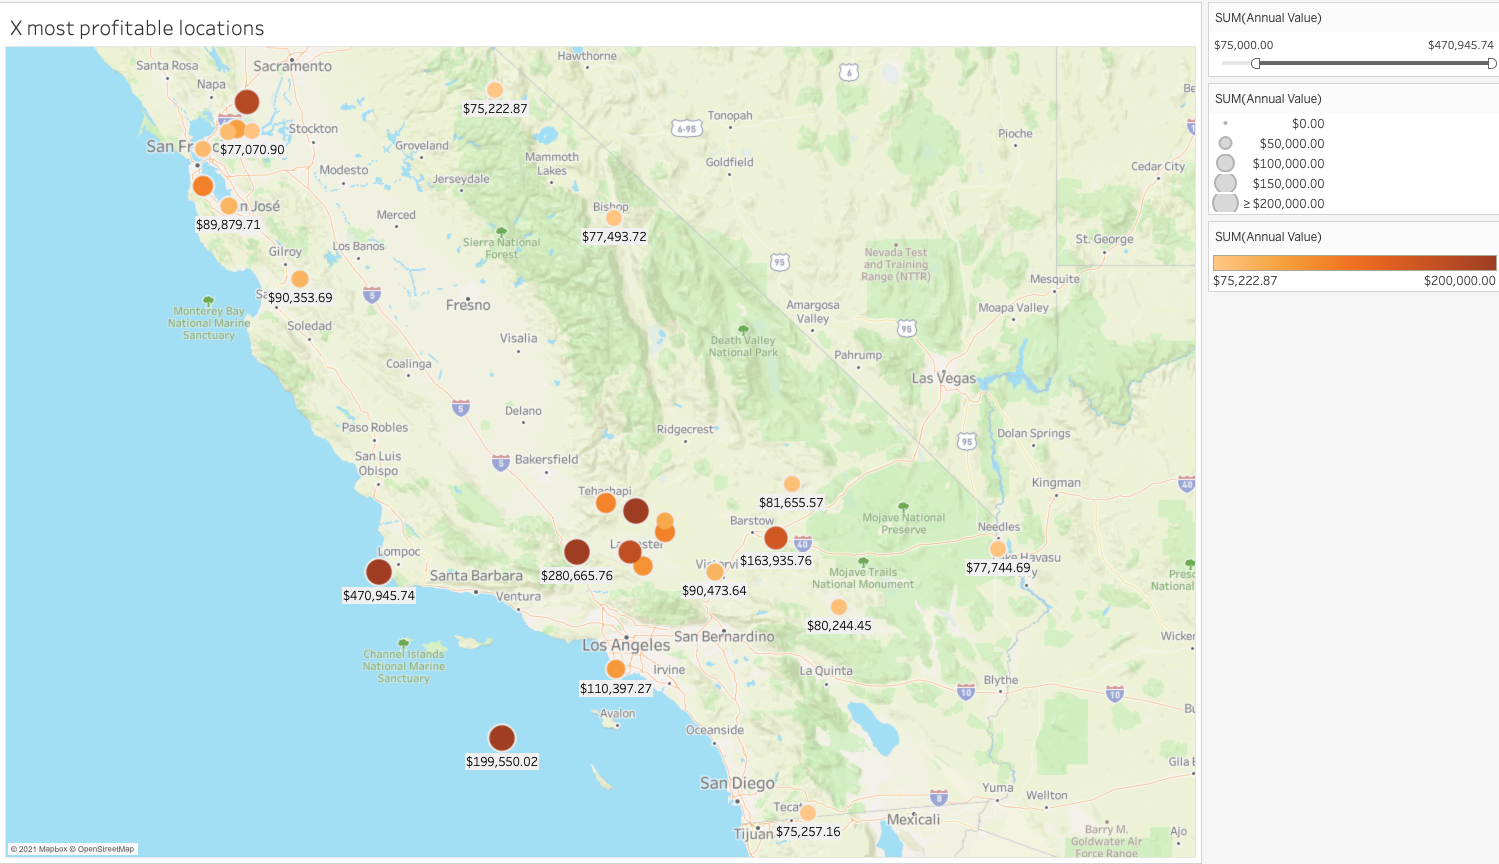

This screenshot's page, from the dashboard's own definition file:
{"tool":"tableau","page":{"name":"X most Profitable","canvas":[650,860],"ordinal":2},"visuals":[{"type":"filter","title":"X most profitable locations","param":"[federated.0d5cord0ae5pdx11siwb11orag4q].[sum:annual_value:qk]","box":[8,9.6,634,53.8]},{"type":"legend","title":"X most profitable locations","param":"[federated.0d5cord0ae5pdx11siwb11orag4q].[sum:annual_value:qk]","box":[8,63.4,634,54.1]},{"type":"worksheet","title":"X most profitable locations","mark":"Automatic","rows":["latitude"],"cols":["longitude"],"box":[8,117.5,634,733]}]}

Visuals, with their boxes on the page's 650x860 design canvas (x1, y1, x2, y2). These are canvas units, not pixel positions in the 1499x864 screenshot, which may show the page scaled, cropped or inside an application window:
"X most profitable locations" filter: box(8, 10, 642, 63)
"X most profitable locations" legend: box(8, 63, 642, 118)
"X most profitable locations" worksheet: box(8, 118, 642, 850)
